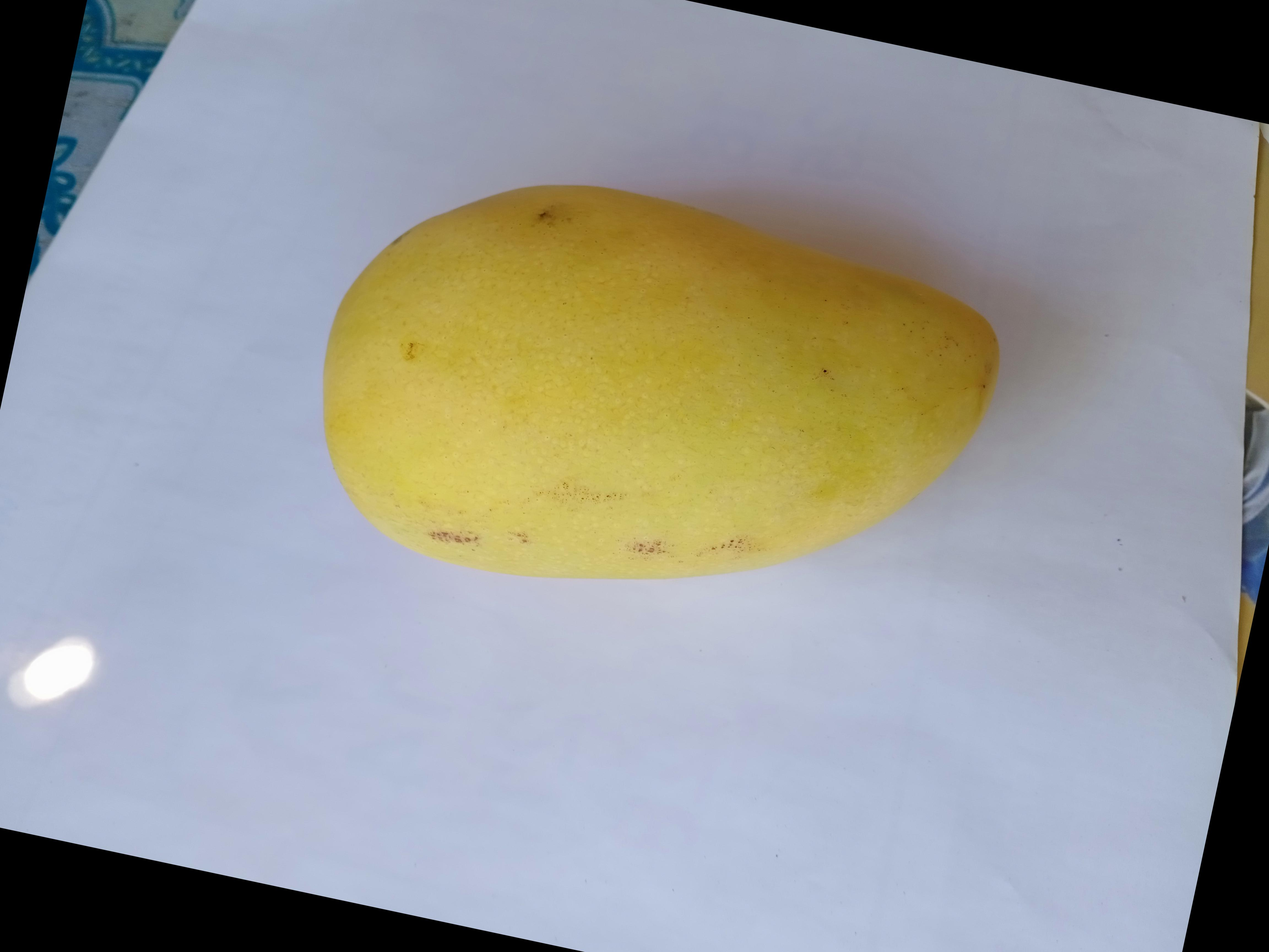Mango Ripe: (359, 0, 1211, 559)
